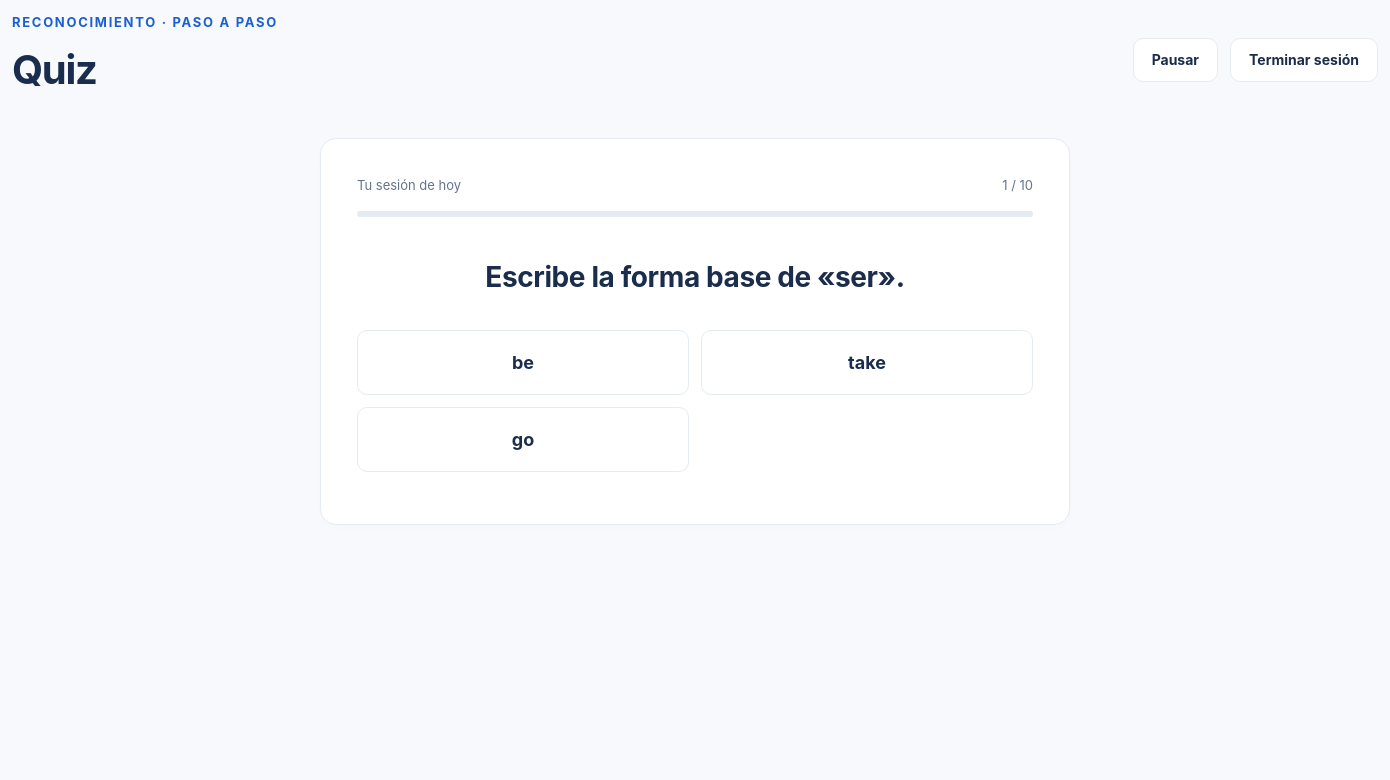
finalization failures are visible and do not announce completion
This screenshot has width=1390, height=780.
Click the button "Terminar sesión": (1304, 60) [1230,38,1378,82]
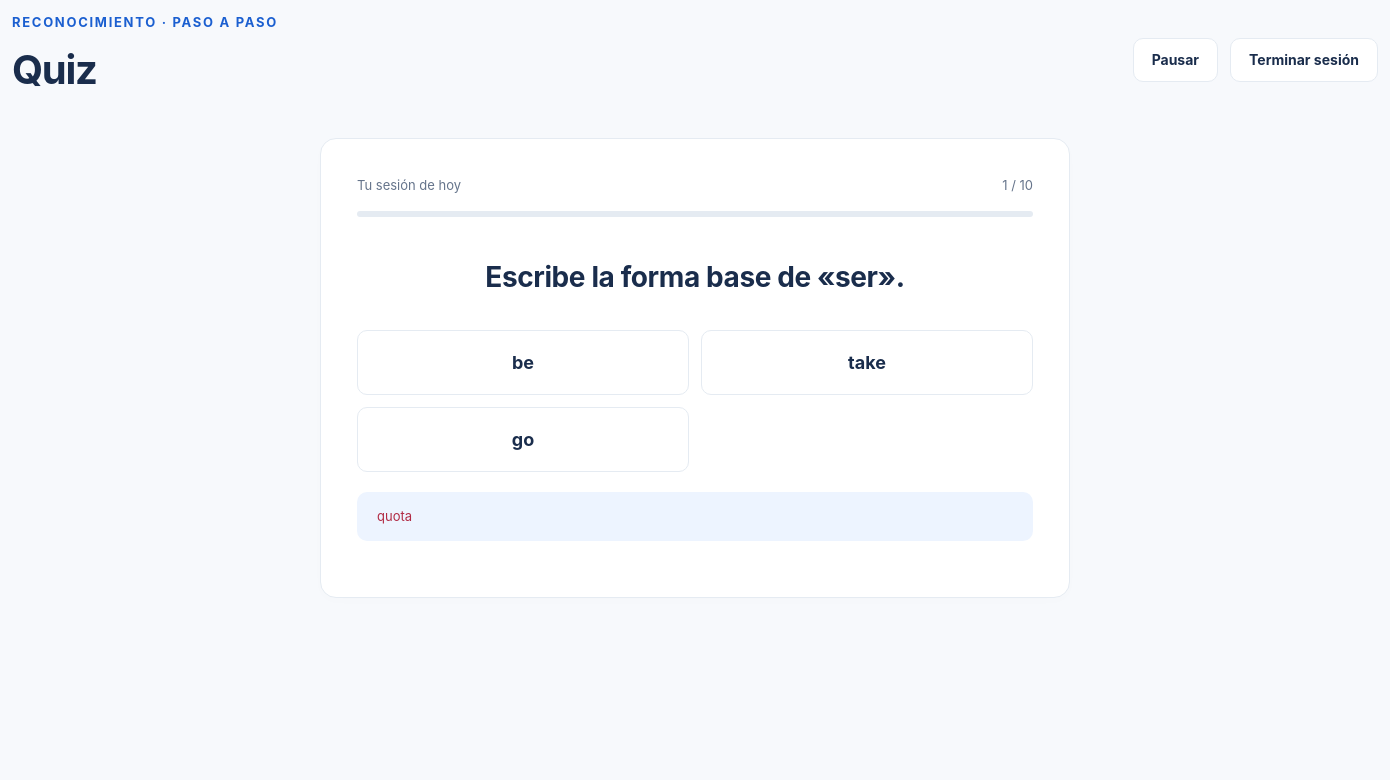
Expected: the message reads "quota", [377,508,412,524]
